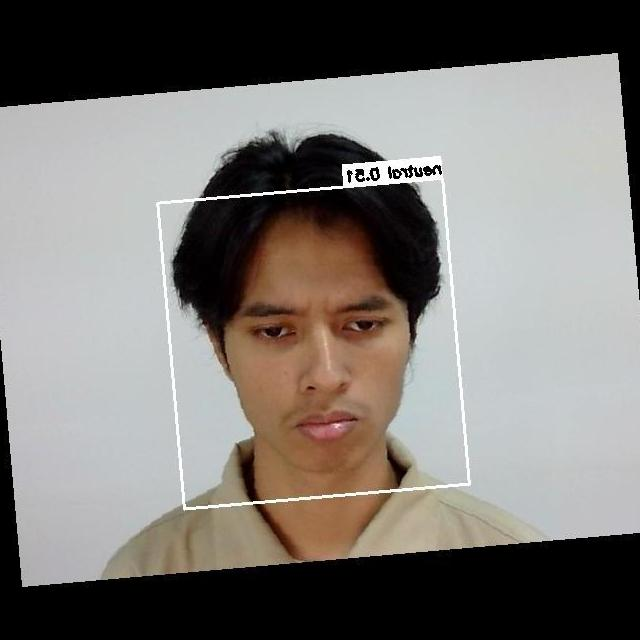Sad: (198, 253, 428, 466)
